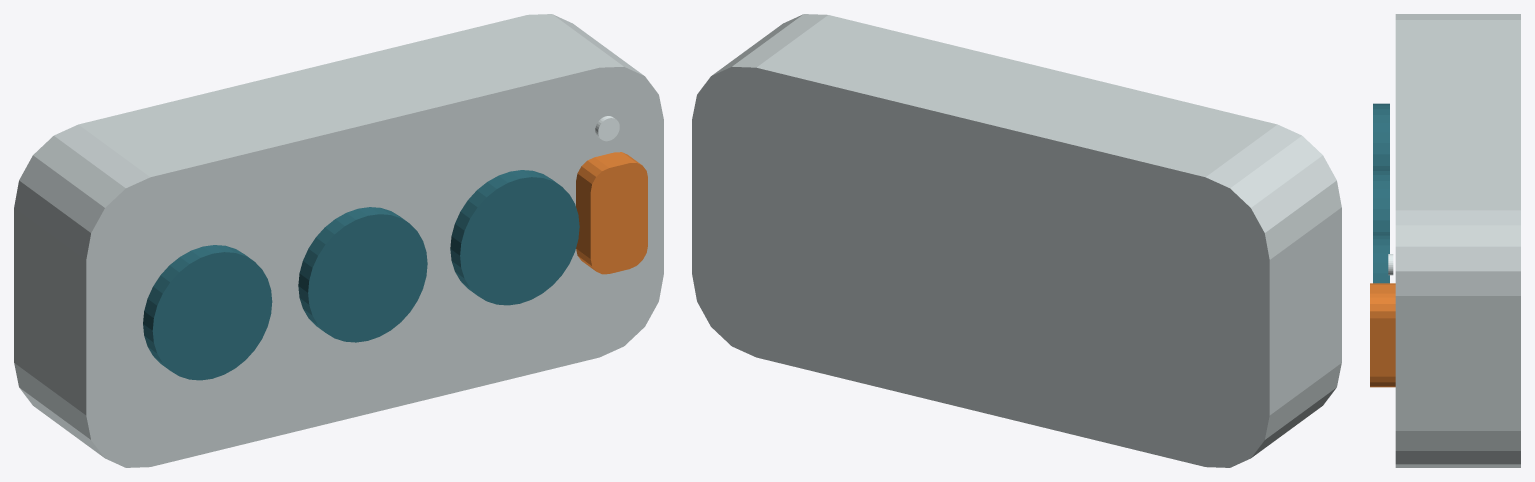
Rendered from powerstrip.glb.
3 views of the same model, side by side, from view 1: azimuth 30°, elevation 25°; view 2: azimuth 150°, elevation 25°; view 3: azimuth 270°, elevation 25° (orthographic). The views are drawn at different scales.
Parts seen in each view (by area): view 1: case, socket-0.52, socket-0.06, socket0.39, switch; view 2: case; view 3: case, switch, socket-0.52, socket-0.06, socket0.39.
Part boxes in pixels (box(x1,y1,x2,y2)): case: box(14, 14, 663, 467); socket-0.52: box(143, 245, 272, 380); socket-0.06: box(298, 207, 427, 342); socket0.39: box(450, 170, 579, 305); switch: box(576, 152, 647, 274); case: box(692, 14, 1341, 467); case: box(1395, 14, 1520, 467); switch: box(1370, 283, 1395, 387); socket-0.52: box(1373, 103, 1389, 169); socket-0.06: box(1373, 169, 1389, 233); socket0.39: box(1373, 234, 1389, 283).
Bounding box in the file's own units: 1.71 × 0.82 × 0.4455.
